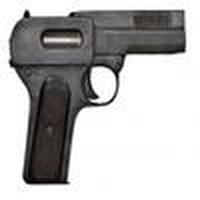gun: (3, 3, 194, 191)
